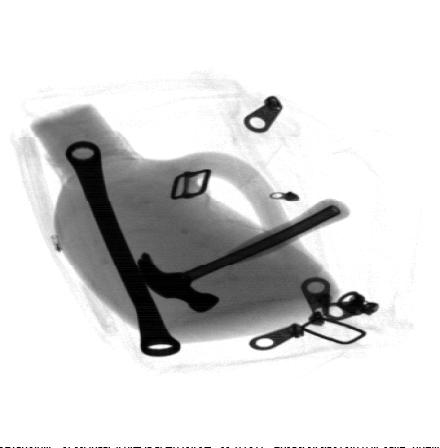Hammer: (137, 196, 352, 313)
Wrench: (64, 138, 180, 358)
